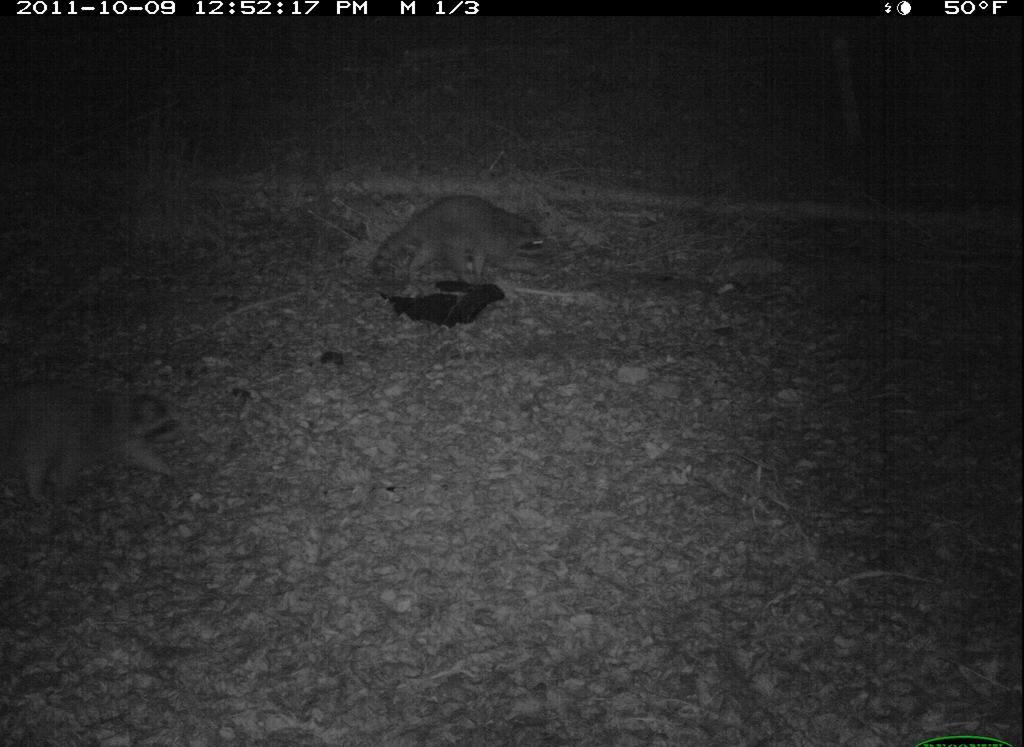raccoon: (1, 375, 212, 503), (357, 184, 567, 295)
